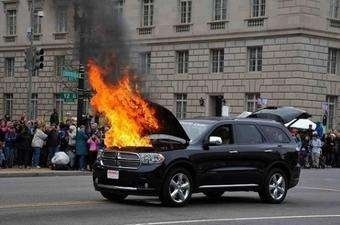fire: (84, 60, 163, 150)
